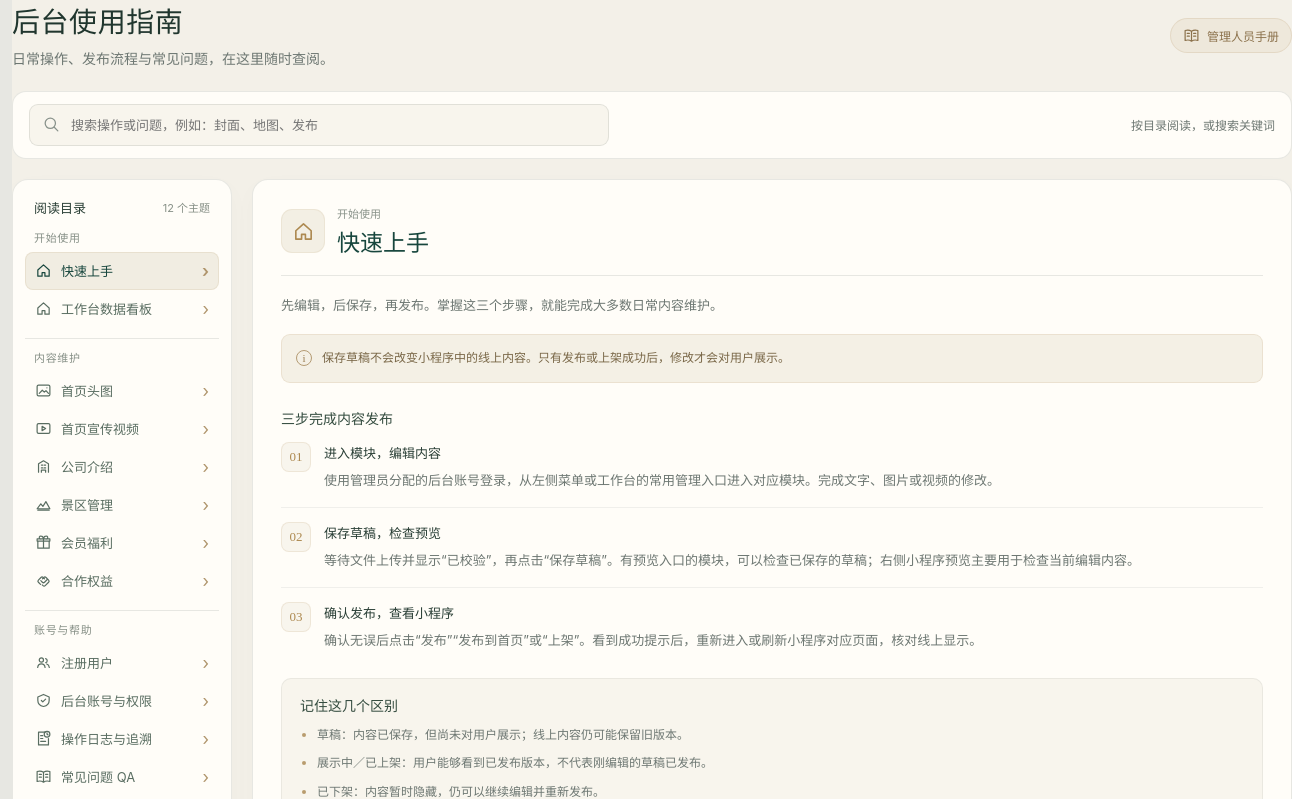
Test case: GuidePage › allows operators to read account guidance without linking to restricted pages
Click the button "后台账号与权限 ›": (122,701) [25,682,219,720]
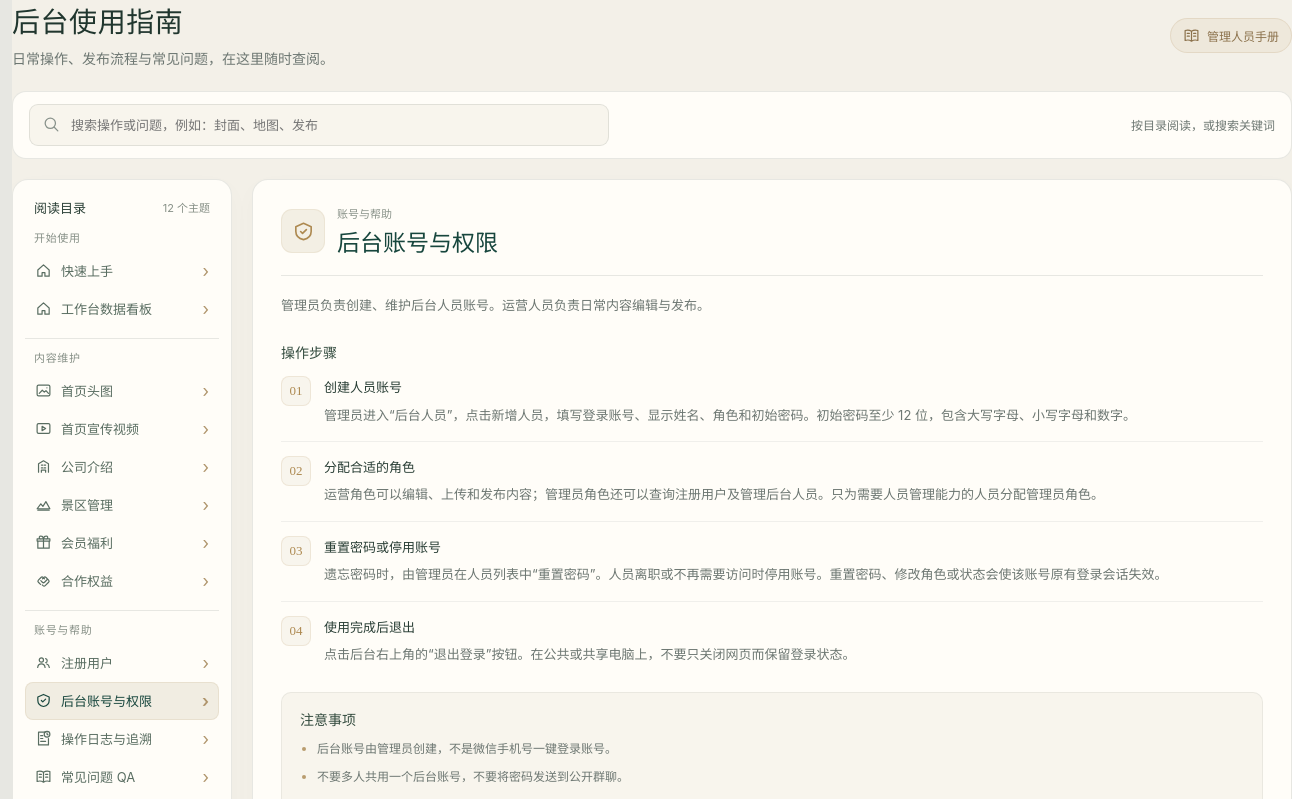
Expected: the heading "后台账号与权限" is shown, [337,224,498,258]
Click the button "注册用户 ›": (122,663) [25,644,219,682]
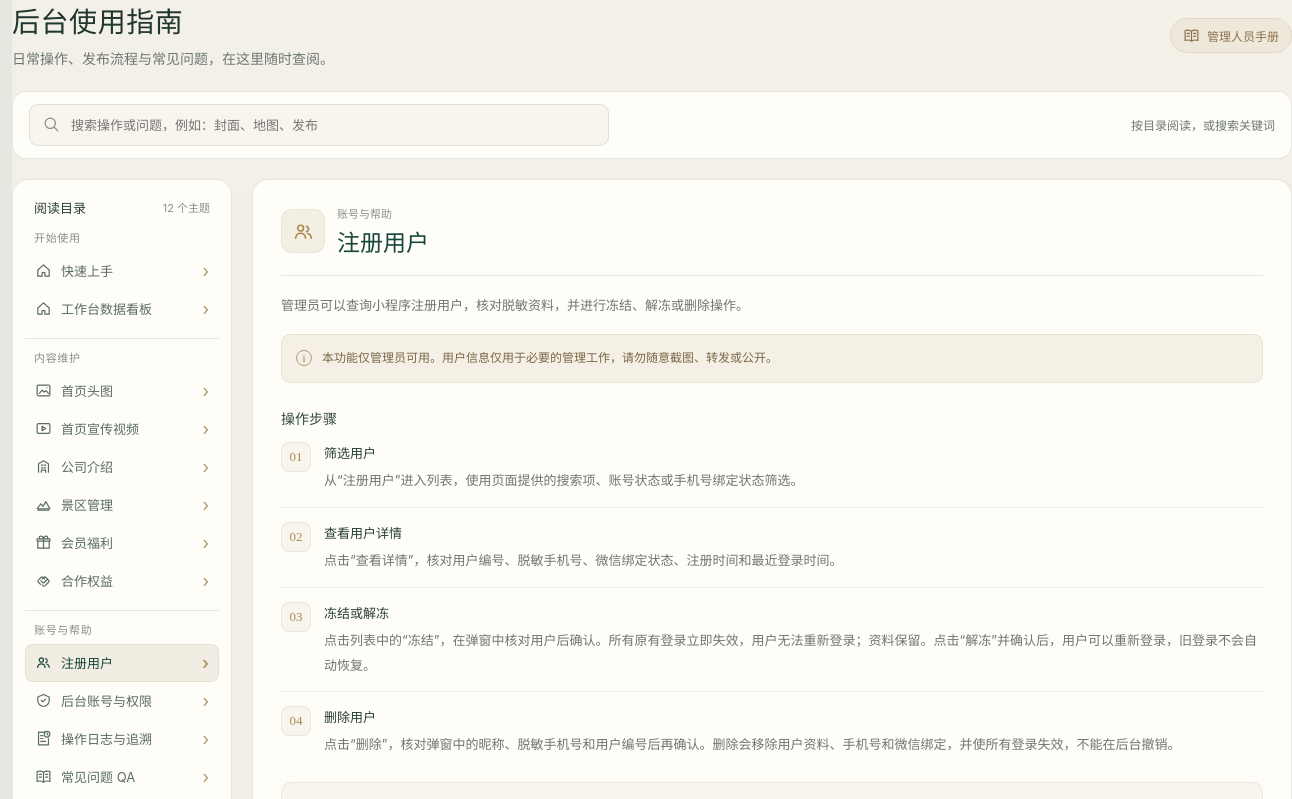
Expected: the text "本功能仅管理员可用。用户信息仅用于必要的管理工作，请勿随意截图、转发或公开。" is shown, [322,348,778,370]
